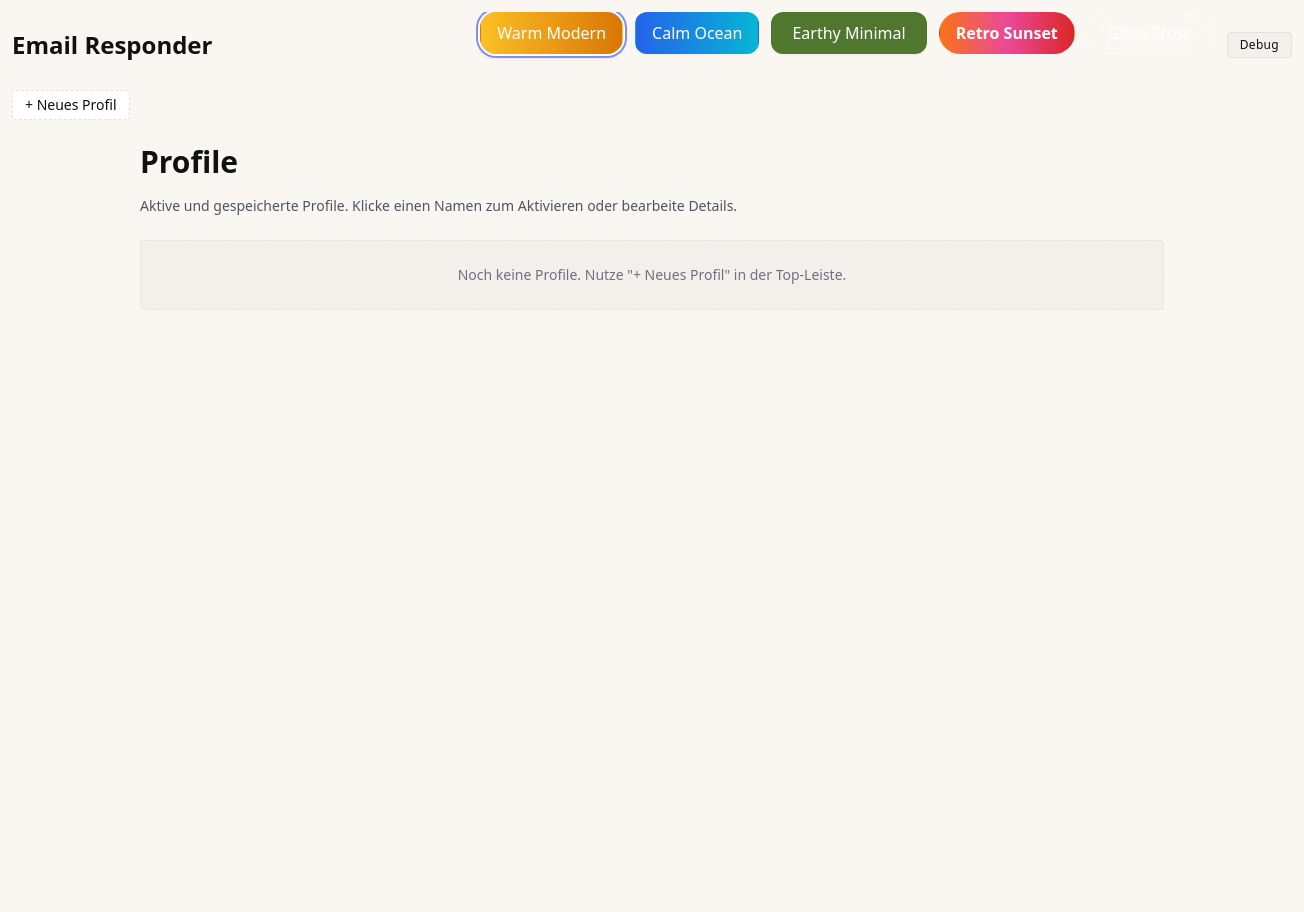
it: TopBar › navigates to new profile setup page
Click the button with test id "topbar-new-profile".
click(71, 105)  # box [12,90,130,120]
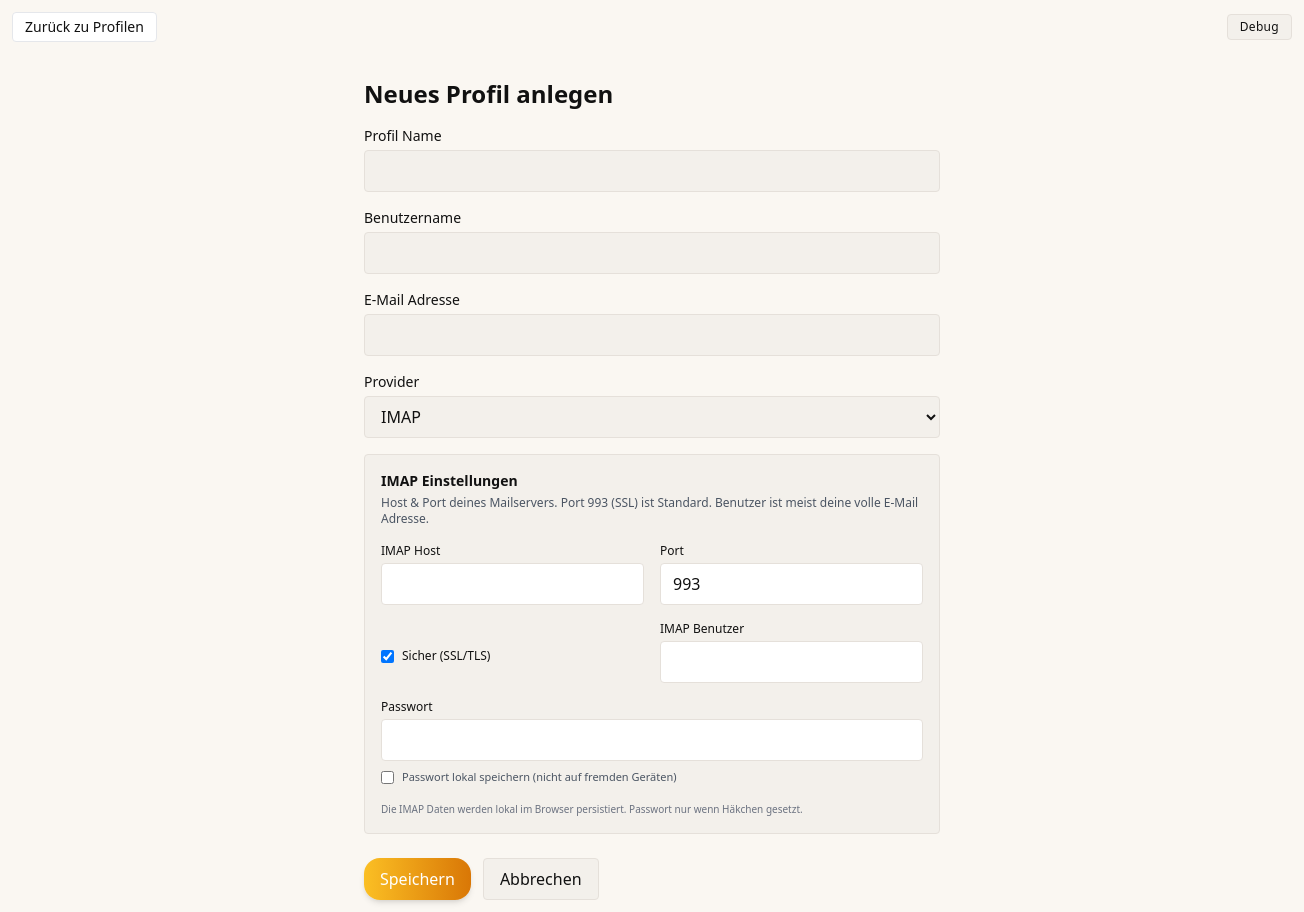
Now the heading "Neues Profil anlegen" is shown, box [364,77,613,110]
